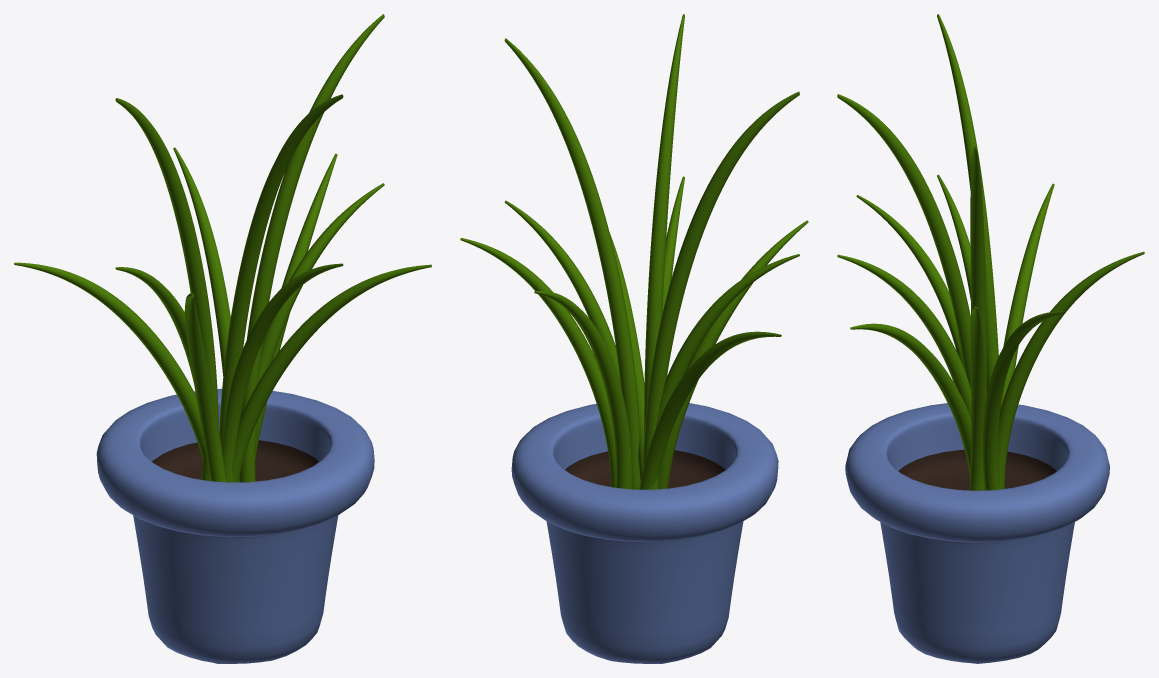
The model's file is Plant.fbx.
3 views of the same model, side by side, from view 1: azimuth 30°, elevation 25°; view 2: azimuth 150°, elevation 25°; view 3: azimuth 270°, elevation 25° (orthographic). The views are drawn at different scales.
Visible parts, largest first — view 1: Vase.005, NurbsPath.019, NurbsPath.021, NurbsPath.020, NurbsPath.013, NurbsPath.017, NurbsPath.016, NurbsPath.018, NurbsPath.011, NurbsPath.012, NurbsPath.014, NurbsPath.015; view 2: Vase.005, NurbsPath.019, NurbsPath.020, NurbsPath.021, NurbsPath.014, NurbsPath.012, NurbsPath.017, NurbsPath.015, NurbsPath.018, NurbsPath.011, NurbsPath.013, NurbsPath.016; view 3: Vase.005, NurbsPath.021, NurbsPath.012, NurbsPath.020, NurbsPath.014, NurbsPath.019, NurbsPath.016, NurbsPath.013, NurbsPath.011, NurbsPath.017, NurbsPath.018, NurbsPath.015.
Boxes of the visible parts, x1,y1,x2,y2 form: Vase.005: (96, 388, 374, 663); NurbsPath.019: (240, 14, 384, 482); NurbsPath.021: (219, 94, 343, 482); NurbsPath.020: (115, 98, 218, 481); NurbsPath.013: (231, 264, 431, 482); NurbsPath.017: (14, 262, 204, 458); NurbsPath.016: (222, 263, 343, 471); NurbsPath.018: (184, 293, 225, 482); NurbsPath.011: (239, 183, 384, 482); NurbsPath.012: (173, 147, 239, 481); NurbsPath.014: (255, 153, 337, 458); NurbsPath.015: (115, 267, 209, 474); Vase.005: (511, 403, 778, 663); NurbsPath.019: (504, 38, 639, 474); NurbsPath.020: (642, 91, 799, 489); NurbsPath.021: (644, 14, 684, 437); NurbsPath.014: (460, 238, 616, 487); NurbsPath.012: (534, 291, 632, 489); NurbsPath.017: (639, 331, 781, 489); NurbsPath.015: (655, 254, 799, 486); NurbsPath.018: (658, 220, 808, 489); NurbsPath.011: (504, 200, 640, 489); NurbsPath.013: (610, 234, 644, 481); NurbsPath.016: (662, 176, 684, 313); Vase.005: (845, 403, 1109, 663); NurbsPath.021: (837, 94, 970, 389); NurbsPath.012: (998, 251, 1144, 489); NurbsPath.020: (937, 14, 1001, 407); NurbsPath.014: (982, 311, 1064, 490); NurbsPath.019: (970, 147, 986, 490); NurbsPath.016: (837, 254, 971, 417); NurbsPath.013: (850, 323, 971, 478); NurbsPath.011: (970, 306, 986, 490); NurbsPath.017: (1001, 183, 1054, 405); NurbsPath.018: (856, 195, 963, 366); NurbsPath.015: (937, 174, 970, 300).
Bounding box in the file's own units: 273 × 471 × 233.
